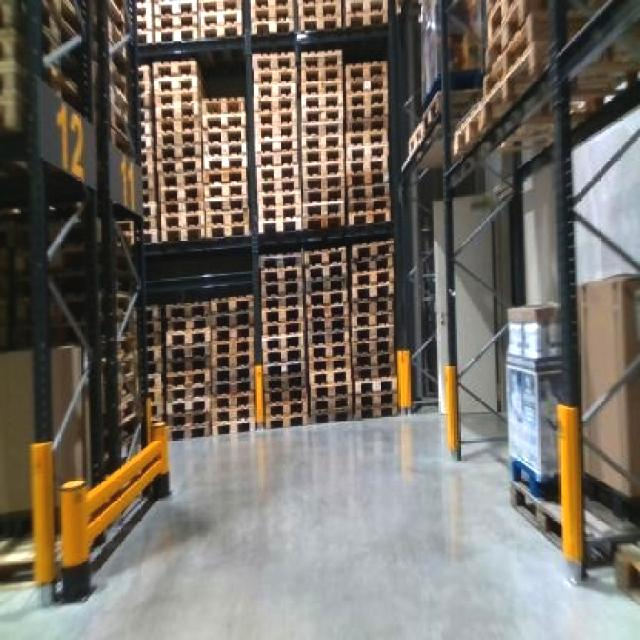floor: (0, 412, 637, 637)
pallets: (134, 0, 394, 434)
